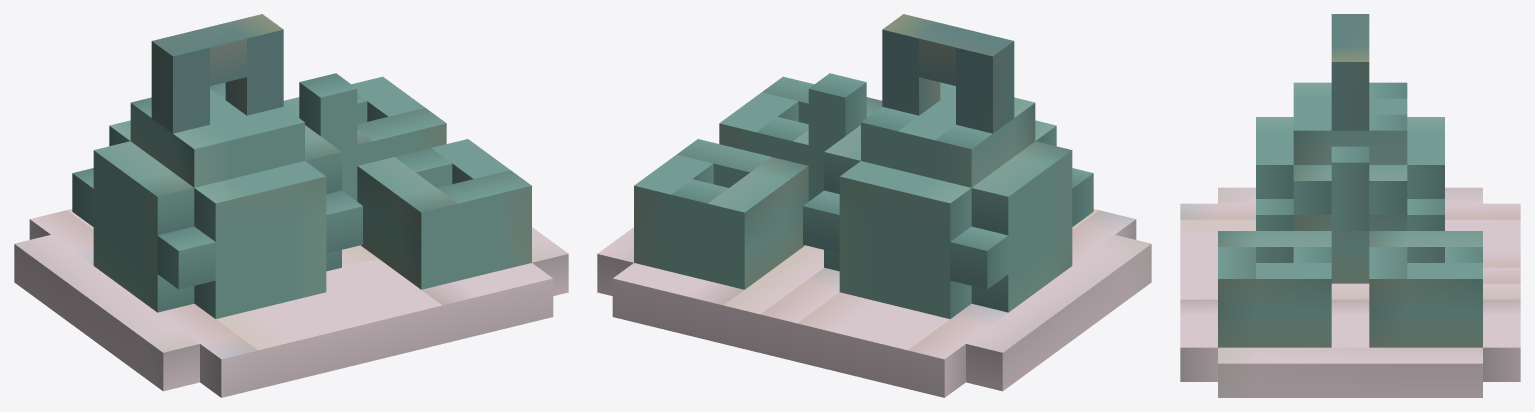
Rendered from Teaset_00.fbx.
3 renders of one model, left to right at view 1: azimuth 30°, elevation 25°; view 2: azimuth 150°, elevation 25°; view 3: azimuth 270°, elevation 25°, orthographic. The views are drawn at different scales.
Parts seen in each view (by area): view 1: Teaset_00; view 2: Teaset_00; view 3: Teaset_00.
Boxes of the visible parts, x1,y1,x2,y2 form: Teaset_00: (14, 14, 568, 397); Teaset_00: (597, 14, 1151, 397); Teaset_00: (1180, 14, 1520, 397).
Bounding box in the file's own units: 55 × 45 × 35.
Materials: 1 (1 with a texture image).
